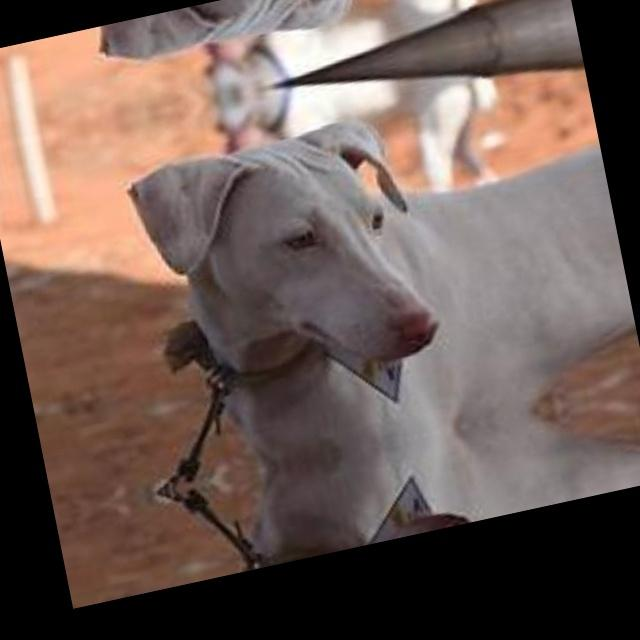dog: (110, 66, 564, 488), (176, 404, 583, 582), (86, 0, 487, 94)
